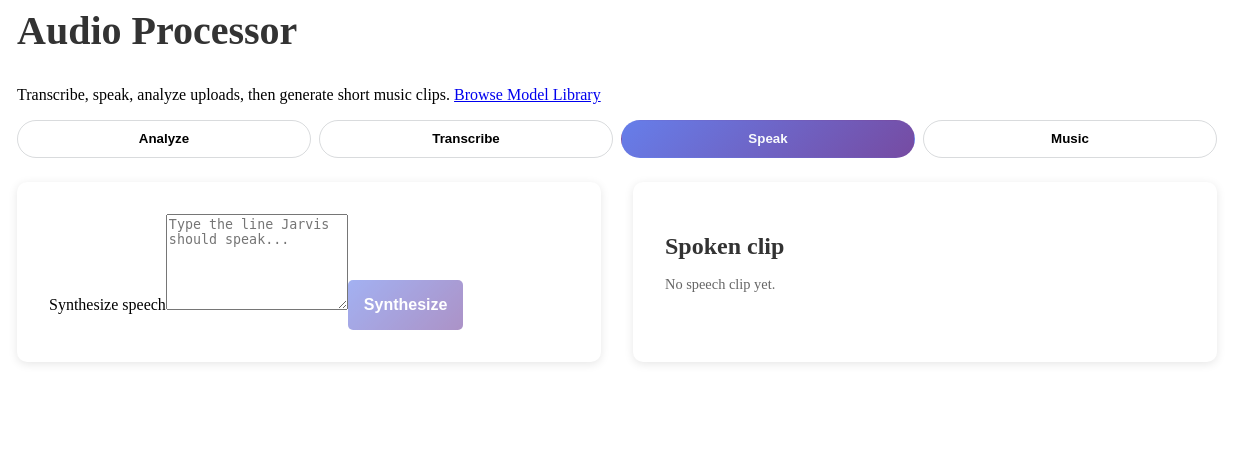
it: AudioProcessor › opens the TTS lane and posts synthesize payloads
In the text box with placeholder "Type the line Jarvis should speak...": (257,262) [166,214,348,310], type "Hello operator"
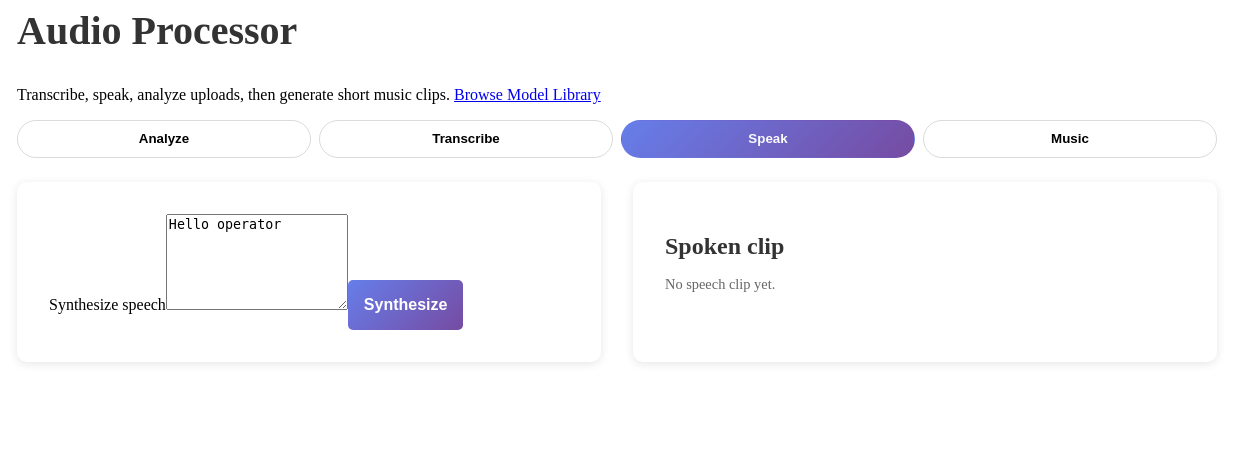
Click the button "Synthesize": (406,305) [348,280,464,330]
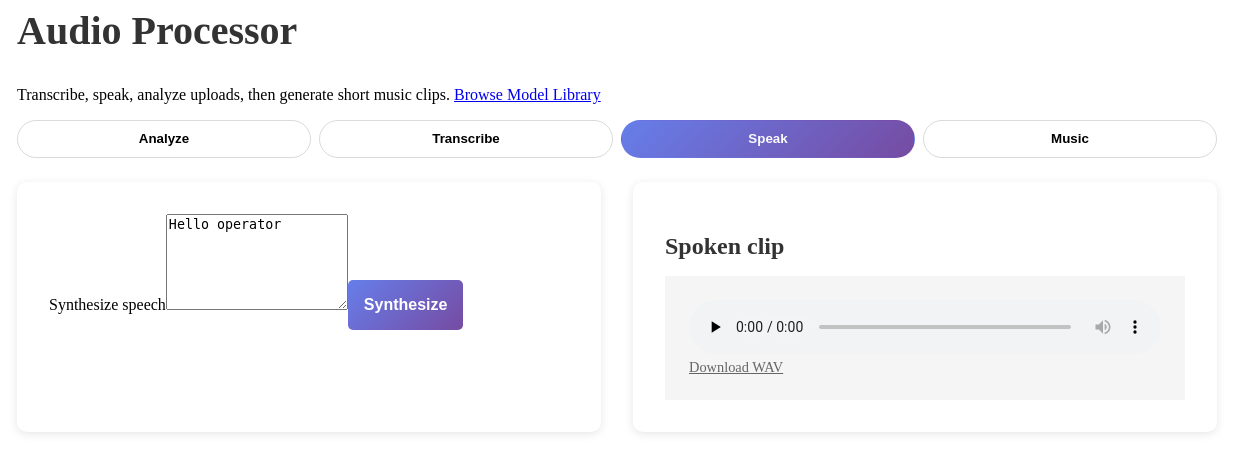
Now the link "Download WAV" is shown, box [689,360,783,376]
